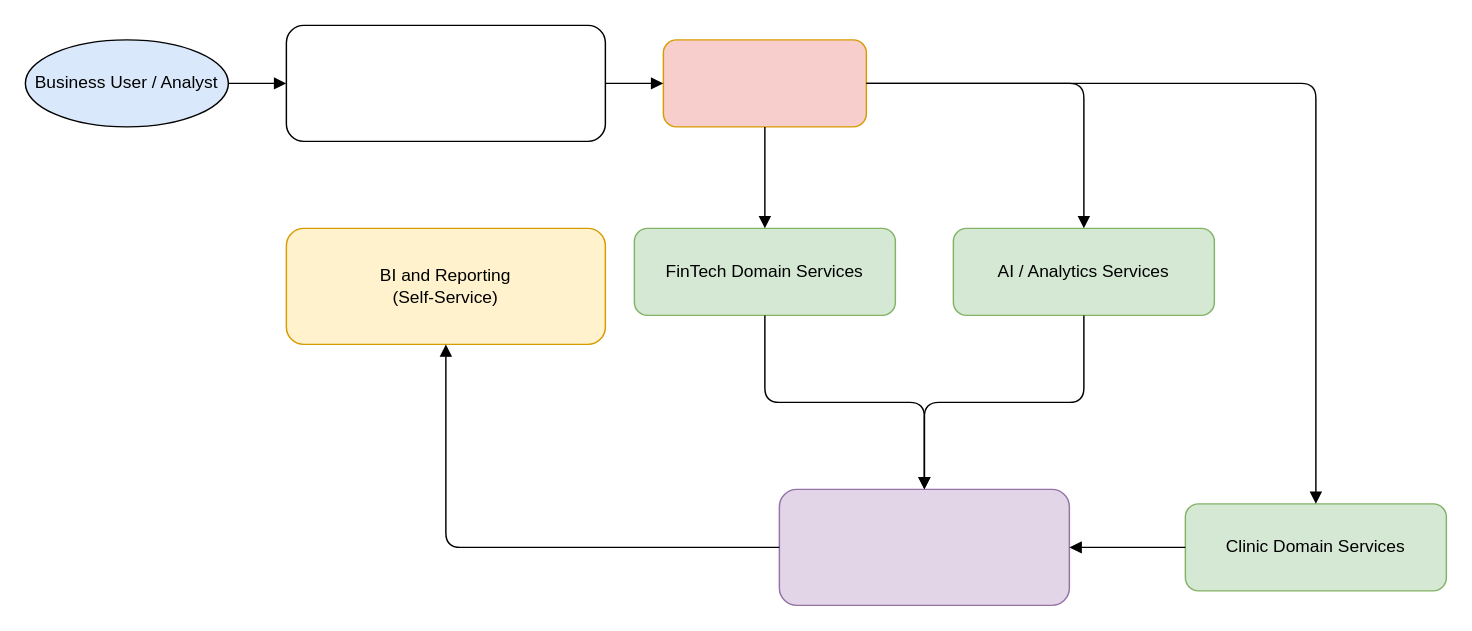
This 1472x631 diagram has some shape labels left out. The shapes that lost their labels are listed below. From the top down, each one's centre as x and y in pixels, then its label:
the point at 445,82: Self-Service Portal (UI)
the point at 764,82: API Gateway
the point at 923,546: Data Platform (Data Mesh and Lake)
